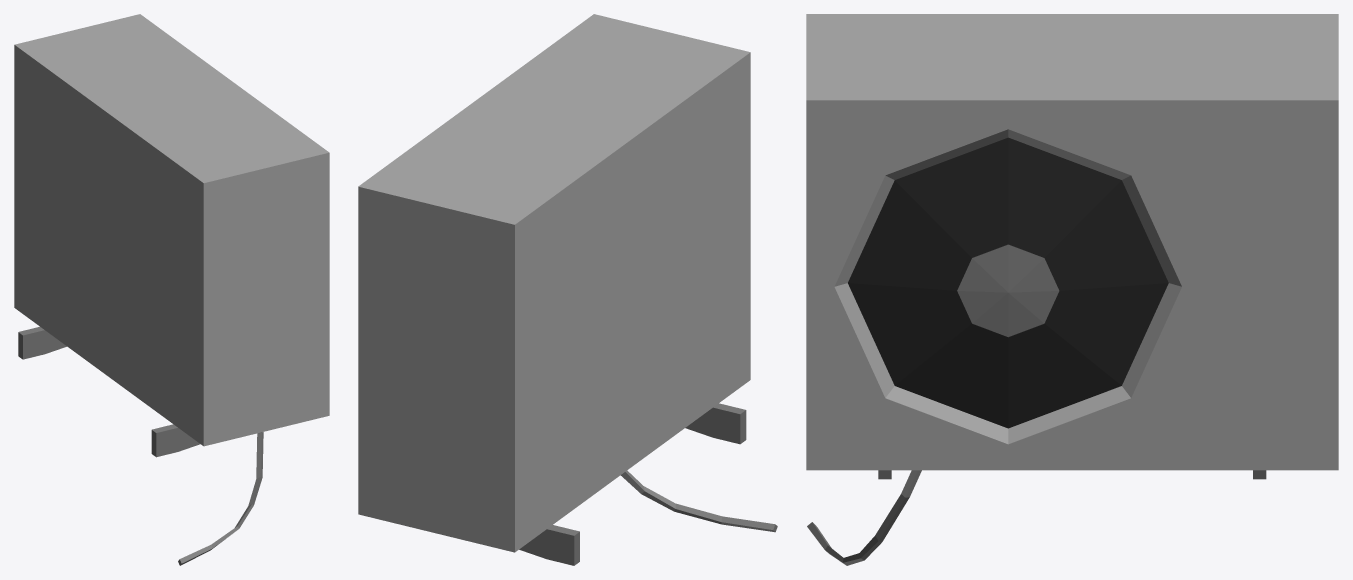
File: air conditioner wall.fbx
3 renders of one model, left to right at view 1: azimuth 30°, elevation 25°; view 2: azimuth 150°, elevation 25°; view 3: azimuth 270°, elevation 25°, orthographic. The views are drawn at different scales.
Parts seen in each view (by area): view 1: air conditioner wall; view 2: air conditioner wall; view 3: air conditioner wall.
Part boxes in pixels (<box>): air conditioner wall: <box>14,14,329,565</box>; air conditioner wall: <box>358,14,777,565</box>; air conditioner wall: <box>806,14,1338,565</box>.
Size of the model in its own units: 30.23 by 70.04 by 63.48.
Materials: 1 (1 with a texture image).
